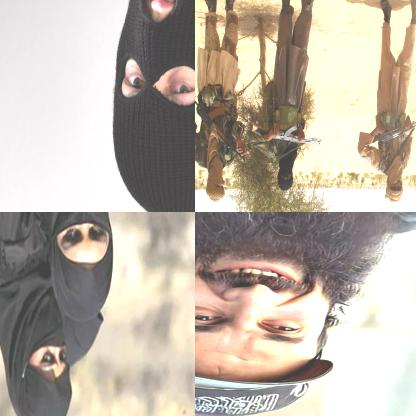rifle: (195, 70, 249, 165), (248, 108, 328, 150), (361, 99, 415, 147)
